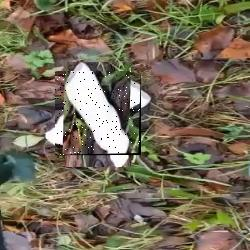plastic: (55, 72, 141, 158)
